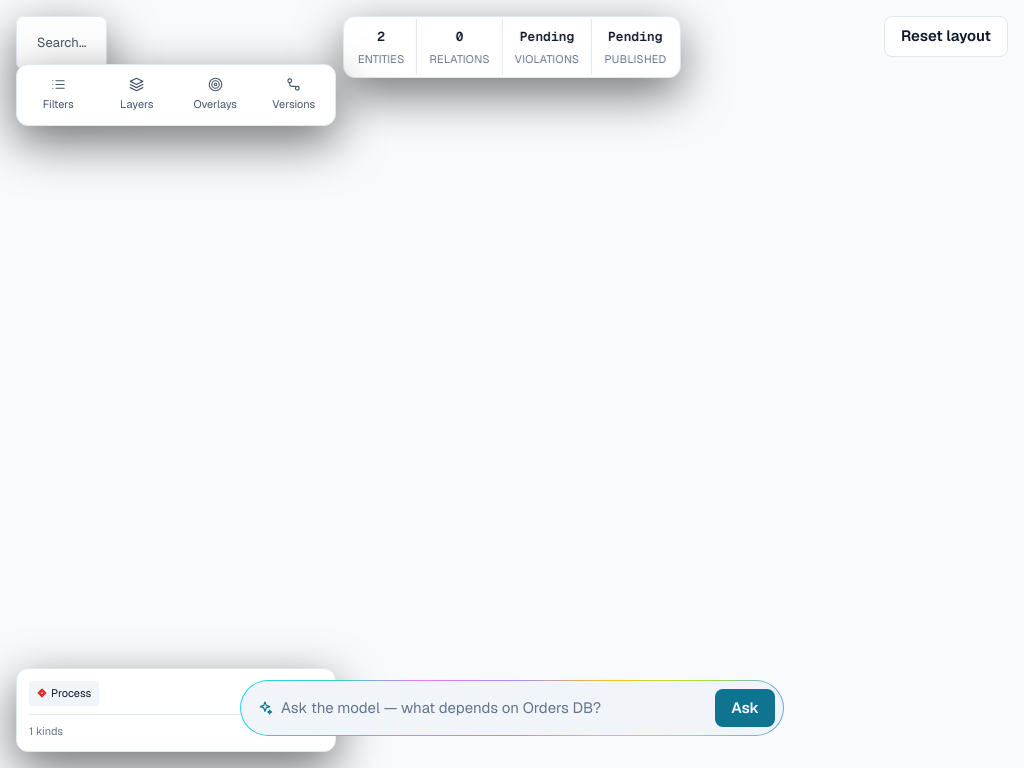
Test case: ExplorerInteractions -- TASK-020 filters/legend/toolbar mount › renders the legend and the filters panel alongside the canvas
Expected: the text "Process" is shown, top-left (29, 681), bottom-right (99, 706)
Click the button "Filters".
click(58, 95)  # box top-left (21, 69), bottom-right (96, 120)
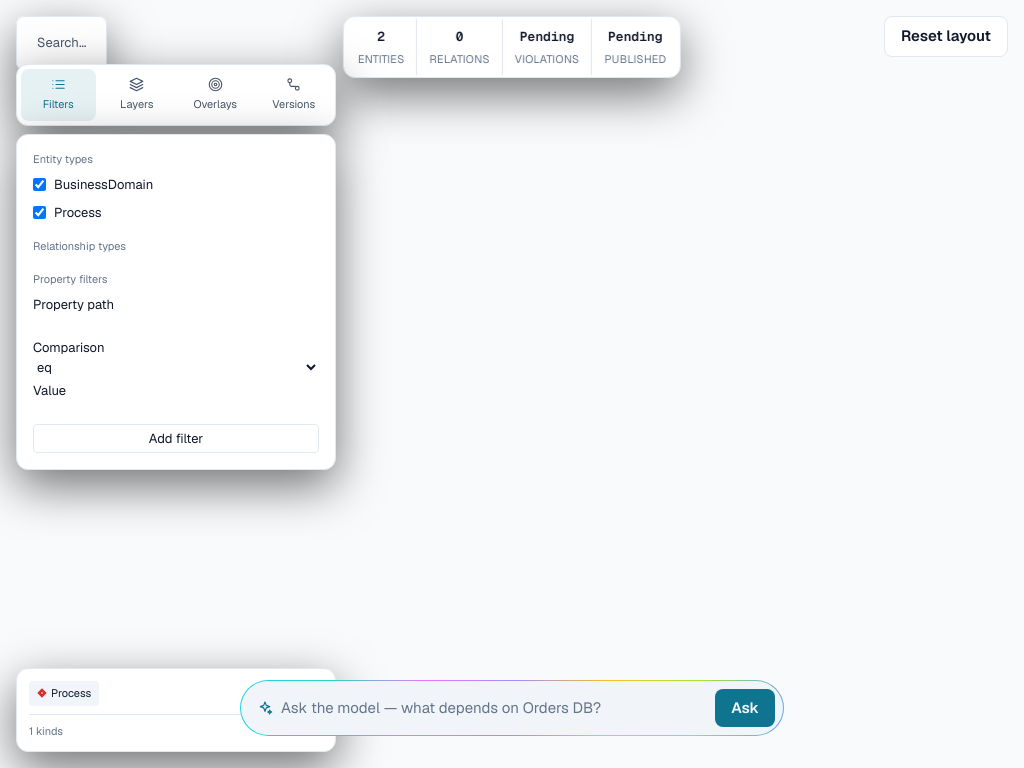
Expected: the element with test id "explorer-filter-panel" is shown, top-left (33, 150), bottom-right (319, 453)
Expected: the checkbox labelled "Process" is shown, top-left (33, 206), bottom-right (46, 219)
